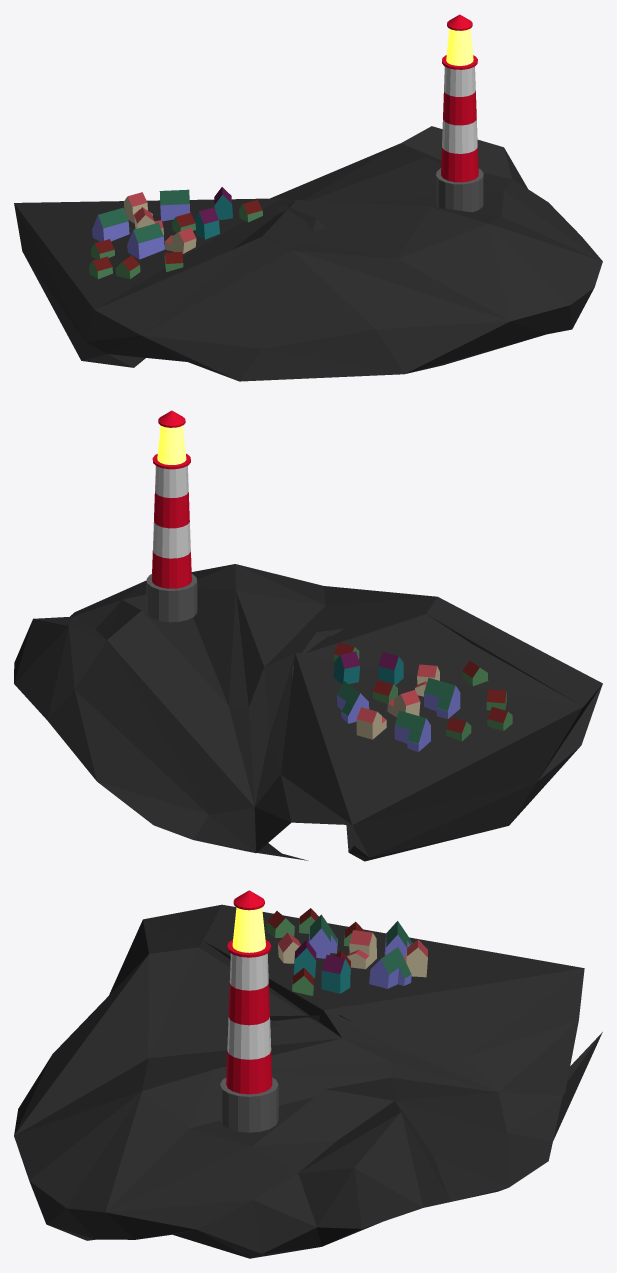
File: Lighthouse.fbx
3 views of the same model, one above another, from view 1: azimuth 30°, elevation 25°; view 2: azimuth 150°, elevation 25°; view 3: azimuth 270°, elevation 25° (orthographic). The views are drawn at different scales.
Visible parts, largest first — view 1: Base rocks, lighthouse, Cube.011, Cube.008, Cube.002, Cube, Cube.004, Cube.009; view 2: Base rocks, lighthouse, Cube.011, Cube.008, Cube.002, Cube.007, Cube.009, Cube, Cube.010; view 3: Base rocks, lighthouse, Cube.002, Cube.009, Cube.010, Cube.011, Cube.007, Cube, Cube.008, Cube.005, Cube.004.
Part boxes in pixels (box(x1,y1,x2,y2)): Base rocks: box(14, 126, 602, 381); lighthouse: box(436, 14, 483, 212); Cube.011: box(127, 222, 164, 259); Cube.008: box(92, 207, 129, 241); Cube.002: box(159, 189, 190, 221); Cube: box(195, 207, 219, 239); Cube.004: box(164, 227, 196, 253); Cube.009: box(214, 187, 232, 220); Base rocks: box(14, 564, 602, 861); lighthouse: box(146, 410, 197, 622); Cube.011: box(424, 678, 460, 719); Cube.008: box(394, 710, 430, 751); Cube.002: box(337, 681, 369, 723); Cube.007: box(356, 707, 386, 739); Cube.009: box(333, 651, 360, 684); Cube: box(378, 652, 403, 685); Cube.010: box(387, 690, 420, 717); Base rocks: box(14, 904, 602, 1258); lighthouse: box(220, 890, 278, 1132); Cube.002: box(369, 947, 411, 988); Cube.009: box(321, 955, 350, 993); Cube.010: box(346, 930, 376, 969); Cube.011: box(308, 914, 337, 958); Cube.007: box(403, 939, 427, 977); Cube: box(293, 939, 316, 978); Cube.008: box(384, 921, 412, 957); Cube.005: box(266, 911, 294, 937); Cube.004: box(277, 932, 300, 963).
Size of what is drawn, in the model's own units: 5666 by 3195 by 4919.
